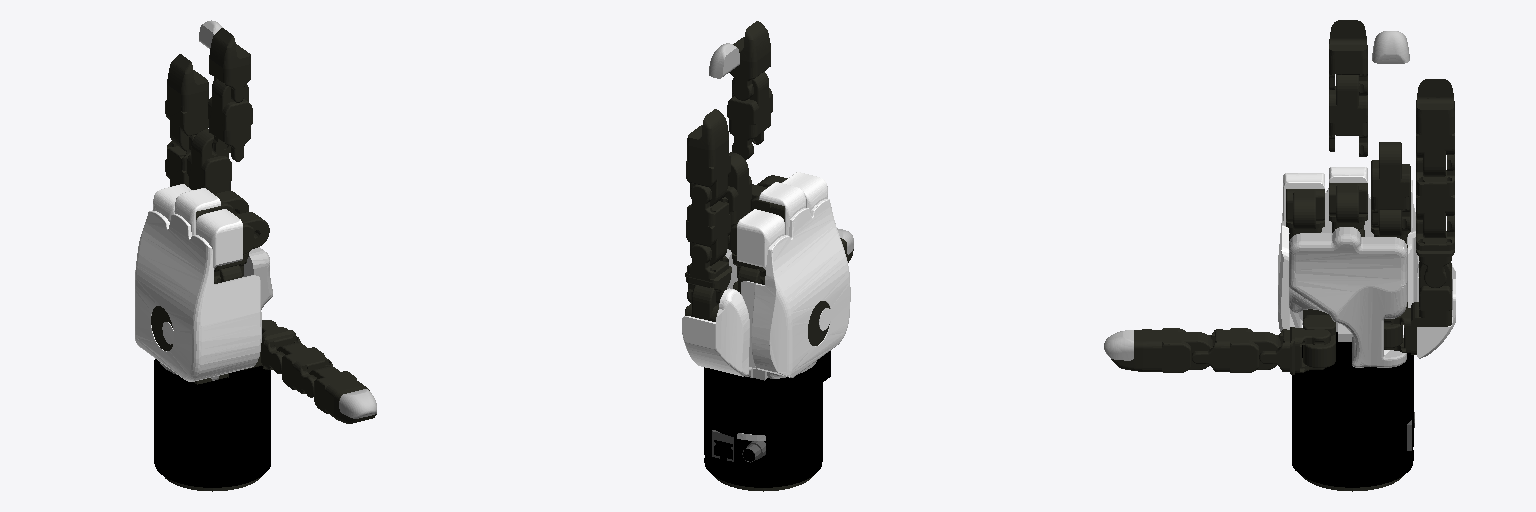
--- Render facts (derived) ---
Views: 3 orthographic renders of the robot side by side, from view 1: azimuth 30°, elevation 25°; view 2: azimuth 150°, elevation 25°; view 3: azimuth 270°, elevation 25°.
Model dg5f_left with 28 links and 27 joints (20 revolute, 7 fixed), rooted at ll_dg_mount, posed every joint at zero.
Visible links, largest first — view 1: ll_dg_palm, ll_dg_base, ll_dg_2_1, ll_dg_5_4, ll_dg_3_3, ll_dg_3_4, ll_dg_4_2, ll_dg_1_4, ll_dg_1_3, ll_dg_3_1, ll_dg_1_2, ll_dg_5_3 (+2 smaller); view 2: ll_dg_palm, ll_dg_base, ll_dg_5_1, ll_dg_5_4, ll_dg_4_1, ll_dg_3_3, ll_dg_5_3, ll_dg_3_4, ll_dg_5_2, ll_dg_3_1, ll_dg_4_2, ll_dg_2_1 (+1 smaller); view 3: ll_dg_palm, ll_dg_base, ll_dg_5_1, ll_dg_5_4, ll_dg_1_4, ll_dg_1_3, ll_dg_4_2, ll_dg_2_1, ll_dg_3_3, ll_dg_5_3, ll_dg_3_1, ll_dg_3_4 (+6 smaller).
Boxes of the visible links, left/top/right/bottom form: ll_dg_palm: left=135, top=210, right=272, bottom=381; ll_dg_base: left=154, top=359, right=270, bottom=487; ll_dg_2_1: left=196, top=209, right=269, bottom=283; ll_dg_5_4: left=165, top=54, right=208, bottom=151; ll_dg_3_3: left=208, top=79, right=252, bottom=161; ll_dg_3_4: left=209, top=28, right=250, bottom=102; ll_dg_4_2: left=187, top=129, right=231, bottom=193; ll_dg_1_4: left=309, top=366, right=376, bottom=423; ll_dg_1_3: left=277, top=342, right=332, bottom=397; ll_dg_3_1: left=174, top=188, right=248, bottom=234; ll_dg_1_2: left=261, top=320, right=300, bottom=373; ll_dg_5_3: left=165, top=135, right=195, bottom=186; ll_dg_palm: left=725, top=199, right=850, bottom=380; ll_dg_base: left=704, top=351, right=830, bottom=487; ll_dg_5_1: left=682, top=285, right=749, bottom=376; ll_dg_5_4: left=686, top=109, right=730, bottom=206; ll_dg_4_1: left=728, top=209, right=784, bottom=284; ll_dg_3_3: left=727, top=71, right=772, bottom=159; ll_dg_5_3: left=686, top=184, right=730, bottom=265; ll_dg_3_4: left=729, top=21, right=770, bottom=100; ll_dg_5_2: left=685, top=244, right=731, bottom=303; ll_dg_3_1: left=751, top=182, right=805, bottom=235; ll_dg_4_2: left=725, top=152, right=751, bottom=244; ll_dg_2_1: left=757, top=172, right=827, bottom=212; ll_dg_palm: left=1278, top=188, right=1418, bottom=367; ll_dg_base: left=1292, top=332, right=1414, bottom=487; ll_dg_5_1: left=1384, top=261, right=1455, bottom=358; ll_dg_5_4: left=1416, top=79, right=1454, bottom=176; ll_dg_1_4: left=1111, top=328, right=1213, bottom=372; ll_dg_1_3: left=1192, top=328, right=1281, bottom=372; ll_dg_4_2: left=1371, top=142, right=1410, bottom=230; ll_dg_2_1: left=1283, top=173, right=1324, bottom=235; ll_dg_3_3: left=1329, top=74, right=1367, bottom=156; ll_dg_5_3: left=1416, top=154, right=1454, bottom=237; ll_dg_3_1: left=1329, top=167, right=1367, bottom=229; ll_dg_3_4: left=1329, top=20, right=1367, bottom=95.
Bounding box of the posed robot: 0.0735 × 0.2022 × 0.2877 m (x, y, z).
19 mesh visuals loaded from 28 distinct referenced files (19 Collada DAE); not drawn: 9 (reference not matched to a file when rendering).

URDF robot description (dg5f_left):
<?xml version="1.0" ?>
<!--
    dg5f_left.urdf
    Licensed under the BSD-3-Clause
    Copyright (c) 2025 Tesollo Inc.
    See LICENSE file for details.

    Reference:
    * https://tesollo.com/dg-5f/
-->

<robot name="dg5f_left">
  <link name="ll_dg_mount">
    <inertial>
      <origin xyz="6.4721E-09 2.1674E-05 0.0049997" rpy="0.0 0.0 0.0" />
      <inertia ixx="1.0999E-05" ixy="-2.1734E-12" ixz="-1.2441E-12" iyy="1.1018E-05" iyz="-4.0435E-09" izz="2.0531E-05" />
      <mass value="0.05" />
    </inertial>
    <visual>
      <geometry>
        <mesh filename="package://dg_description/meshes/dg5f_left/visual/ll_dg_mount.dae"/>
      </geometry>
    </visual>
    <collision>
      <geometry>
        <mesh filename="package://dg_description/meshes/dg5f_left/collision/ll_dg_mount_c.STL"/>
      </geometry>
    </collision>
  </link>

  <link name="ll_dg_base">
    <inertial>
      <origin xyz="-0.00058969 -0.00051381 0.037363" rpy="0.0 0.0 0.0" />
      <inertia ixx="0.00048608" ixy="-1.041E-05" ixz="1.7229E-05" iyy="0.00049085" iyz="5.191E-06" izz="0.00043369" />
      <mass value="0.45" />
    </inertial>
    <visual>
      <origin xyz="0 0 0" rpy="0 0 0" />
      <geometry>
        <mesh filename="package://dg_description/meshes/dg5f_left/visual/ll_dg_base.dae" />
      </geometry>
    </visual>
    <collision>
      <origin xyz="0 0 0" rpy="0 0 0" />
      <geometry>
        <mesh filename="package://dg_description/meshes/dg5f_left/collision/ll_dg_base_c.STL" />
      </geometry>
    </collision>
  </link>
  <joint name="lj_dg_base" type="fixed">
    <parent link="ll_dg_mount"/>
    <child link="ll_dg_base"/>
    <origin rpy="0 0 0" xyz="0 0 0.004"/>
  </joint>

  <link name="ll_dg_palm">
    <inertial>
      <origin xyz="-0.0089544 -0.00095674 0.041327" rpy="0.0 0.0 0.0" />
      <inertia ixx="0.00052648" ixy="-2.618E-06" ixz="-2.2256E-05" iyy="0.00041644" iyz="4.8923E-05" izz="0.00045776" />
      <mass value="0.35" />
    </inertial>
    <visual>
      <origin xyz="0 0 0" rpy="0 0 0" />
      <geometry>
        <mesh filename="package://dg_description/meshes/dg5f_left/visual/ll_dg_palm.dae" />
      </geometry>
    </visual>
    <collision>
      <origin xyz="0 0 0" rpy="0 0 0" />
      <geometry>
        <mesh filename="package://dg_description/meshes/dg5f_left/collision/ll_dg_palm_c.STL" />
      </geometry>
    </collision>
  </link>
  <joint name="lj_dg_palm" type="fixed">
    <parent link="ll_dg_base"/>
    <child link="ll_dg_palm"/>
    <origin rpy="0 0 0" xyz="0 0 0.0698"/>
  </joint>

  <link name="ll_dg_1_1">
    <inertial>
      <origin xyz="0.021473 3.1163E-06 0.0028146" rpy="0.0 0.0 0.0" />
      <inertia ixx="4.2707E-06" ixy="2.4123E-09" ixz="2.9055E-06" iyy="1.3718E-05" iyz="-1.3824E-09" izz="1.2161E-05" />
      <mass value="0.045" />
    </inertial>
    <visual>
      <origin xyz="0 0 0" rpy="0 0 0" />
      <geometry>
        <mesh filename="package://dg_description/meshes/dg5f_left/visual/ll_dg_1_1.dae" />
      </geometry>
    </visual>
    <collision>
      <origin xyz="0 0 0" rpy="0 0 0" />
      <geometry>
        <mesh filename="package://dg_description/meshes/dg5f_left/collision/ll_dg_1_1_c.STL" />
      </geometry>
    </collision>
  </link>
  <joint name="lj_dg_1_1" type="revolute">
    <origin xyz="-0.0162 -0.019 0.0128" rpy="0.0 0.0 0.0" />
    <parent link="ll_dg_palm" />
    <child link="ll_dg_1_1" />
    <axis xyz="1 0 0" />
    <limit lower="-0.8901179185171081" upper="0.3839724354387525" effort="7.5" velocity="3.141592653589793"/>
  </joint>

  <link name="ll_dg_1_2">
    <inertial>
      <origin xyz="-0.00055633 -0.0155 0.00055633" rpy="0.0 0.0 0.0" />
      <inertia ixx="1.9935E-06" ixy="-1.5774E-07" ixz="-3.114E-09" iyy="1.459E-06" iyz="-1.5774E-07" izz="1.9935E-06" />
      <mass value="0.025" />
    </inertial>
    <visual>
      <origin xyz="0 0 0" rpy="0 0 0" />
      <geometry>
        <mesh filename="package://dg_description/meshes/dg5f_left/visual/ll_dg_1_2.dae" />
      </geometry>
    </visual>
    <collision>
      <origin xyz="0 0 0" rpy="0 0 0" />
      <geometry>
        <mesh filename="package://dg_description/meshes/dg5f_left/collision/ll_dg_1_2_c.STL" />
      </geometry>
    </collision>
  </link>
  <joint name="lj_dg_1_2" type="revolute">
    <origin xyz="0.04195 0.0 0.0" rpy="0.0 0.0 0.0" />
    <parent link="ll_dg_1_1" />
    <child link="ll_dg_1_2" />
    <axis xyz="0 0 1" />
    <limit lower="-0.0" upper="3.141592653589793" effort="7.5" velocity="3.141592653589793"/>
  </joint>

  <link name="ll_dg_1_3">
    <inertial>
      <origin xyz="-2.3008E-05 -0.014842 4.7446E-06" rpy="0.0 0.0 0.0" />
      <inertia ixx="5.9794E-06" ixy="-3.6014E-07" ixz="1.3678E-09" iyy="2.458E-06" iyz="2.3552E-09" izz="6.4181E-06" />
      <mass value="0.045" />
    </inertial>
    <visual>
      <origin xyz="0 0 0" rpy="0 0 0" />
      <geometry>
        <mesh filename="package://dg_description/meshes/dg5f_left/visual/ll_dg_1_3.dae" />
      </geometry>
    </visual>
    <collision>
      <origin xyz="0 0 0" rpy="0 0 0" />
      <geometry>
        <mesh filename="package://dg_description/meshes/dg5f_left/collision/ll_dg_1_3_c.STL" />
      </geometry>
    </collision>
  </link>
  <joint name="lj_dg_1_3" type="revolute">
    <origin xyz="0.0 -0.031 0.0" rpy="0.0 0.0 0.0" />
    <parent link="ll_dg_1_2" />
    <child link="ll_dg_1_3" />
    <axis xyz="1 0 0" />
    <limit lower="-1.5707963267948966" upper="1.5707963267948966" effort="7.5" velocity="3.141592653589793"/>
  </joint>

  <link name="ll_dg_1_4">
    <inertial>
      <origin xyz="0.00020482 -0.018795 -0.00036539" rpy="0.0 0.0 0.0" />
      <inertia ixx="9.4915E-06" ixy="-1.5157E-07" ixz="-3.4626E-09" iyy="2.9391E-06" iyz="-3.7813E-07" izz="9.8194E-06" />
      <mass value="0.045" />
    </inertial>
    <visual>
      <origin xyz="0 0 0" rpy="0 0 0" />
      <geometry>
        <mesh filename="package://dg_description/meshes/dg5f_left/visual/ll_dg_1_4.dae" />
      </geometry>
    </visual>
    <collision>
      <origin xyz="0 0 0" rpy="0 0 0" />
      <geometry>
        <mesh filename="package://dg_description/meshes/dg5f_left/collision/ll_dg_1_4_c.STL" />
      </geometry>
    </collision>
  </link>
  <joint name="lj_dg_1_4" type="revolute">
    <origin xyz="0.0 -0.0388 0.0" rpy="0.0 0.0 0.0" />
    <parent link="ll_dg_1_3" />
    <child link="ll_dg_1_4" />
    <axis xyz="1 0 0" />
    <limit lower="-1.5707963267948966" upper="1.5707963267948966" effort="7.5" velocity="3.141592653589793"/>
  </joint>

  <link name="ll_dg_1_tip">
    <inertial>
      <origin xyz="-5.479E-07 -0.007157 0.0038063" rpy="0.0 0.0 0.0" />
      <inertia ixx="1.9895E-07" ixy="-3.0731E-11" ixz="-2.1191E-12" iyy="2.5698E-07" iyz="-1.3375E-08" izz="3.2445E-07" />
      <mass value="0.005" />
    </inertial>
    <visual>
      <origin xyz="0 0 0" rpy="0 0 0" />
      <geometry>
        <mesh filename="package://dg_description/meshes/dg5f_left/visual/ll_dg_1_tip.dae" />
      </geometry>
    </visual>
    <collision>
      <origin xyz="0 0 0" rpy="0 0 0" />
      <geometry>
        <mesh filename="package://dg_description/meshes/dg5f_left/collision/ll_dg_1_tip_c.STL" />
      </geometry>
    </collision>
  </link>
  <joint name="lj_dg_1_tip" type="fixed">
    <origin xyz="0.0 -0.0363 0.0" rpy="0.0 0.0 0.0" />
    <parent link="ll_dg_1_4" />
    <child link="ll_dg_1_tip" />
  </joint>

  <link name="ll_dg_2_1">
    <inertial>
      <origin xyz="0.0010606 -0.00058566 0.023499" rpy="0.0 0.0 0.0" />
      <inertia ixx="6.5541E-06" ixy="1.8684E-07" ixz="-1.1508E-06" iyy="9.5306E-06" iyz="-5.3298E-09" izz="7.0879E-06" />
      <mass value="0.045" />
    </inertial>
    <visual>
      <origin xyz="0 0 0" rpy="0 0 0" />
      <geometry>
        <mesh filename="package://dg_description/meshes/dg5f_left/visual/ll_dg_2_1.dae" />
      </geometry>
    </visual>
    <collision>
      <origin xyz="0 0 0" rpy="0 0 0" />
      <geometry>
        <mesh filename="package://dg_description/meshes/dg5f_left/collision/ll_dg_2_1_c.STL" />
      </geometry>
    </collision>
  </link>
  <joint name="lj_dg_2_1" type="revolute">
    <origin xyz="-0.0071 -0.027 0.0661" rpy="0.0 0.0 0.0" />
    <parent link="ll_dg_palm" />
    <child link="ll_dg_2_1" />
    <axis xyz="1 0 0" />
    <limit lower="-0.6108652381980153" upper="0.4188790204786391" effort="7.5" velocity="3.141592653589793"/>
  </joint>

  <link name="ll_dg_2_2">
    <inertial>
      <origin xyz="-4.7446E-06 2.3008E-05 0.023958" rpy="0.0 0.0 0.0" />
      <inertia ixx="6.4181E-06" ixy="1.3678E-09" ixz="-2.3552E-09" iyy="5.9794E-06" iyz="3.6014E-07" izz="2.458E-06" />
      <mass value="0.045" />
    </inertial>
    <visual>
      <origin xyz="0 0 0" rpy="0 0 0" />
      <geometry>
        <mesh filename="package://dg_description/meshes/dg5f_left/visual/ll_dg_2_2.dae" />
      </geometry>
    </visual>
    <collision>
      <origin xyz="0 0 0" rpy="0 0 0" />
      <geometry>
        <mesh filename="package://dg_description/meshes/dg5f_left/collision/ll_dg_2_2_c.STL" />
      </geometry>
    </collision>
  </link>
  <joint name="lj_dg_2_2" type="revolute">
    <origin xyz="0.01765 0.0 0.0265" rpy="0.0 0.0 0.0" />
    <parent link="ll_dg_2_1" />
    <child link="ll_dg_2_2" />
    <axis xyz="0 1 0" />
    <limit lower="-0.0" upper="2.007128639793479" effort="7.5" velocity="3.141592653589793"/>
  </joint>

  <link name="ll_dg_2_3">
    <inertial>
      <origin xyz="-4.7446E-06 2.3008E-05 0.023958" rpy="0.0 0.0 0.0" />
      <inertia ixx="6.4181E-06" ixy="1.3678E-09" ixz="-2.3552E-09" iyy="5.9794E-06" iyz="3.6014E-07" izz="2.458E-06" />
      <mass value="0.045" />
    </inertial>
    <visual>
      <origin xyz="0 0 0" rpy="0 0 0" />
      <geometry>
        <mesh filename="package://dg_description/meshes/dg5f_left/visual/ll_dg_2_3.dae" />
      </geometry>
    </visual>
    <collision>
      <origin xyz="0 0 0" rpy="0 0 0" />
      <geometry>
        <mesh filename="package://dg_description/meshes/dg5f_left/collision/ll_dg_2_3_c.STL" />
      </geometry>
    </collision>
  </link>
  <joint name="lj_dg_2_3" type="revolute">
    <origin xyz="0.0 0.0 0.0388" rpy="0.0 0.0 0.0" />
    <parent link="ll_dg_2_2" />
    <child link="ll_dg_2_3" />
    <axis xyz="0 1 0" />
    <limit lower="-1.5707963267948966" upper="1.5707963267948966" effort="7.5" velocity="3.141592653589793"/>
  </joint>

  <link name="ll_dg_2_4">
    <inertial>
      <origin xyz="-0.00070816 0.00043036 0.017842" rpy="0.0 0.0 0.0" />
      <inertia ixx="2.8592E-06" ixy="-5.9306E-09" ixz="2.1028E-07" iyy="2.3907E-06" iyz="1.8286E-07" izz="1.6592E-06" />
      <mass value="0.025" />
    </inertial>
    <visual>
      <origin xyz="0 0 0" rpy="0 0 0" />
      <geometry>
        <mesh filename="package://dg_description/meshes/dg5f_left/visual/ll_dg_2_4.dae" />
      </geometry>
    </visual>
    <collision>
      <origin xyz="0 0 0" rpy="0 0 0" />
      <geometry>
        <mesh filename="package://dg_description/meshes/dg5f_left/collision/ll_dg_2_4_c.STL" />
      </geometry>
    </collision>
  </link>
  <joint name="lj_dg_2_4" type="revolute">
    <origin xyz="0.0 0.0 0.0388" rpy="0.0 0.0 0.0" />
    <parent link="ll_dg_2_3" />
    <child link="ll_dg_2_4" />
    <axis xyz="0 1 0" />
    <limit lower="-1.5707963267948966" upper="1.5707963267948966" effort="7.5" velocity="3.141592653589793"/>
  </joint>

  <link name="ll_dg_2_tip">
    <inertial>
      <origin xyz="0.0038063 5.479E-07 0.007157" rpy="0.0 0.0 0.0" />
      <inertia ixx="3.2445E-07" ixy="2.1191E-12" ixz="1.3375E-08" iyy="1.9895E-07" iyz="-3.0731E-11" izz="2.5698E-07" />
      <mass value="0.005" />
    </inertial>
    <visual>
      <origin xyz="0 0 0" rpy="0 0 0" />
      <geometry>
        <mesh filename="package://dg_description/meshes/dg5f_left/visual/ll_dg_2_tip.dae" />
      </geometry>
    </visual>
    <collision>
      <origin xyz="0 0 0" rpy="0 0 0" />
      <geometry>
        <mesh filename="package://dg_description/meshes/dg5f_left/collision/ll_dg_2_tip_c.STL" />
      </geometry>
    </collision>
  </link>
  <joint name="lj_dg_2_tip" type="fixed">
    <origin xyz="0.0 0.0 0.0255" rpy="0.0 0.0 0.0" />
    <parent link="ll_dg_2_4" />
    <child link="ll_dg_2_tip" />
  </joint>

  <link name="ll_dg_3_1">
    <inertial>
      <origin xyz="0.0012558 -0.00017703 0.023374" rpy="0.0 0.0 0.0" />
      <inertia ixx="6.233E-06" ixy="1.1315E-07" ixz="-1.1589E-06" iyy="9.3331E-06" iyz="3.5383E-08" izz="6.7817E-06" />
      <mass value="0.045" />
    </inertial>
    <visual>
      <origin xyz="0 0 0" rpy="0 0 0" />
      <geometry>
        <mesh filename="package://dg_description/meshes/dg5f_left/visual/ll_dg_3_1.dae" />
      </geometry>
    </visual>
    <collision>
      <origin xyz="0 0 0" rpy="0 0 0" />
      <geometry>
        <mesh filename="package://dg_description/meshes/dg5f_left/collision/ll_dg_3_1_c.STL" />
      </geometry>
    </collision>
  </link>
  <joint name="lj_dg_3_1" type="revolute">
    <origin xyz="-0.0071 -0.0025 0.0701" rpy="0.0 0.0 0.0" />
    <parent link="ll_dg_palm" />
    <child link="ll_dg_3_1" />
    <axis xyz="1 0 0" />
    <limit lower="-0.6108652381980153" upper="0.6108652381980153" effort="7.5" velocity="3.141592653589793"/>
  </joint>

  <link name="ll_dg_3_2">
    <inertial>
      <origin xyz="-4.7446E-06 2.3008E-05 0.023958" rpy="0.0 0.0 0.0" />
      <inertia ixx="6.4181E-06" ixy="1.3678E-09" ixz="-2.3552E-09" iyy="5.9794E-06" iyz="3.6014E-07" izz="2.458E-06" />
      <mass value="0.045" />
    </inertial>
    <visual>
      <origin xyz="0 0 0" rpy="0 0 0" />
      <geometry>
        <mesh filename="package://dg_description/meshes/dg5f_left/visual/ll_dg_3_2.dae" />
      </geometry>
    </visual>
    <collision>
      <origin xyz="0 0 0" rpy="0 0 0" />
      <geometry>
        <mesh filename="package://dg_description/meshes/dg5f_left/collision/ll_dg_3_2_c.STL" />
      </geometry>
    </collision>
  </link>
  <joint name="lj_dg_3_2" type="revolute">
    <origin xyz="0.01765 0.0 0.0265" rpy="0.0 0.0 0.0" />
    <parent link="ll_dg_3_1" />
    <child link="ll_dg_3_2" />
    <axis xyz="0 1 0" />
    <limit lower="0.0" upper="1.9547687622336491" effort="7.5" velocity="3.141592653589793"/>
  </joint>

  <link name="ll_dg_3_3">
    <inertial>
      <origin xyz="-4.7446E-06 2.3008E-05 0.023958" rpy="0.0 0.0 0.0" />
      <inertia ixx="6.4181E-06" ixy="1.3678E-09" ixz="-2.3552E-09" iyy="5.9794E-06" iyz="3.6014E-07" izz="2.458E-06" />
      <mass value="0.045" />
    </inertial>
    <visual>
      <origin xyz="0 0 0" rpy="0 0 0" />
      <geometry>
        <mesh filename="package://dg_description/meshes/dg5f_left/visual/ll_dg_3_3.dae" />
      </geometry>
    </visual>
    <collision>
      <origin xyz="0 0 0" rpy="0 0 0" />
      <geometry>
        <mesh filename="package://dg_description/meshes/dg5f_left/collision/ll_dg_3_3_c.STL" />
      </geometry>
    </collision>
  </link>
  <joint name="lj_dg_3_3" type="revolute">
    <origin xyz="0.0 0.0 0.0388" rpy="0.0 0.0 0.0" />
    <parent link="ll_dg_3_2" />
    <child link="ll_dg_3_3" />
    <axis xyz="0 1 0" />
    <limit lower="-1.5707963267948966" upper="1.5707963267948966" effort="7.5" velocity="3.141592653589793"/>
  </joint>

  <link name="ll_dg_3_4">
    <inertial>
      <origin xyz="-0.00070816 0.00043036 0.017842" rpy="0.0 0.0 0.0" />
      <inertia ixx="2.8592E-06" ixy="-5.9306E-09" ixz="2.1028E-07" iyy="2.3907E-06" iyz="1.8286E-07" izz="1.6592E-06" />
      <mass value="0.025" />
    </inertial>
    <visual>
      <origin xyz="0 0 0" rpy="0 0 0" />
      <geometry>
        <mesh filename="package://dg_description/meshes/dg5f_left/visual/ll_dg_3_4.dae" />
      </geometry>
    </visual>
    <collision>
      <origin xyz="0 0 0" rpy="0 0 0" />
      <geometry>
        <mesh filename="package://dg_description/meshes/dg5f_left/collision/ll_dg_3_4_c.STL" />
      </geometry>
    </collision>
  </link>
  <joint name="lj_dg_3_4" type="revolute">
    <origin xyz="0.0 0.0 0.0388" rpy="0.0 0.0 0.0" />
    <parent link="ll_dg_3_3" />
    <child link="ll_dg_3_4" />
    <axis xyz="0 1 0" />
    <limit lower="-1.5707963267948966" upper="1.5707963267948966" effort="7.5" velocity="3.141592653589793"/>
  </joint>

  <link name="ll_dg_3_tip">
    <inertial>
      <origin xyz="0.0038063 5.479E-07 0.007157" rpy="0.0 0.0 0.0" />
      <inertia ixx="3.2445E-07" ixy="2.1191E-12" ixz="1.3375E-08" iyy="1.9895E-07" iyz="-3.0731E-11" izz="2.5698E-07" />
      <mass value="0.005" />
    </inertial>
    <visual>
      <origin xyz="0 0 0" rpy="0 0 0" />
      <geometry>
        <mesh filename="package://dg_description/meshes/dg5f_left/visual/ll_dg_3_tip.dae" />
      </geometry>
    </visual>
    <collision>
      <origin xyz="0 0 0" rpy="0 0 0" />
      <geometry>
        <mesh filename="package://dg_description/meshes/dg5f_left/collision/ll_dg_3_tip_c.STL" />
      </geometry>
    </collision>
  </link>
  <joint name="lj_dg_3_tip" type="fixed">
    <origin xyz="0.0 0.0 0.0255" rpy="0.0 0.0 0.0" />
    <parent link="ll_dg_3_4" />
    <child link="ll_dg_3_tip" />
  </joint>

  <link name="ll_dg_4_1">
    <inertial>
      <origin xyz="0.001061 0.00024417 0.023499" rpy="0.0 0.0 0.0" />
      <inertia ixx="6.5538E-06" ixy="3.9294E-08" ixz="-1.1507E-06" iyy="9.5305E-06" iyz="7.6072E-08" izz="7.0877E-06" />
      <mass value="0.045" />
    </inertial>
    <visual>
      <origin xyz="0 0 0" rpy="0 0 0" />
      <geometry>
        <mesh filename="package://dg_description/meshes/dg5f_left/visual/ll_dg_4_1.dae" />
      </geometry>
    </visual>
    <collision>
      <origin xyz="0 0 0" rpy="0 0 0" />
      <geometry>
        <mesh filename="package://dg_description/meshes/dg5f_left/collision/ll_dg_4_1_c.STL" />
      </geometry>
    </collision>
  </link>
  <joint name="lj_dg_4_1" type="revolute">
    <origin xyz="-0.0071 0.022 0.0621" rpy="0.0 0.0 0.0" />
    <parent link="ll_dg_palm" />
    <child link="ll_dg_4_1" />
    <axis xyz="1 0 0" />
    <limit lower="-0.4188790204786391" upper="0.6108652381980153" effort="7.5" velocity="3.141592653589793"/>
  </joint>

  <link name="ll_dg_4_2">
    <inertial>
      <origin xyz="-4.7446E-06 2.3008E-05 0.023958" rpy="0.0 0.0 0.0" />
      <inertia ixx="6.4181E-06" ixy="1.3678E-09" ixz="-2.3552E-09" iyy="5.9794E-06" iyz="3.6014E-07" izz="2.458E-06" />
      <mass value="0.045" />
    </inertial>
    <visual>
      <origin xyz="0 0 0" rpy="0 0 0" />
      <geometry>
        <mesh filename="package://dg_description/meshes/dg5f_left/visual/ll_dg_4_2.dae" />
      </geometry>
    </visual>
    <collision>
      <origin xyz="0 0 0" rpy="0 0 0" />
      <geometry>
        <mesh filename="package://dg_description/meshes/dg5f_left/collision/ll_dg_4_2_c.STL" />
      </geometry>
    </collision>
  </link>
  <joint name="lj_dg_4_2" type="revolute">
    <origin xyz="0.01765 0.0 0.0265" rpy="0.0 0.0 0.0" />
    <parent link="ll_dg_4_1" />
    <child link="ll_dg_4_2" />
    <axis xyz="0 1 0" />
    <limit lower="0.0" upper="1.9024088846738192" effort="7.5" velocity="3.141592653589793"/>
  </joint>

  <link name="ll_dg_4_3">
    <inertial>
      <origin xyz="-4.7446E-06 2.3008E-05 0.023958" rpy="0.0 0.0 0.0" />
      <inertia ixx="6.4181E-06" ixy="1.3678E-09" ixz="-2.3552E-09" iyy="5.9794E-06" iyz="3.6014E-07" izz="2.458E-06" />
      <mass value="0.045" />
    </inertial>
    <visual>
      <origin xyz="0 0 0" rpy="0 0 0" />
      <geometry>
        <mesh filename="package://dg_description/meshes/dg5f_left/visual/ll_dg_4_3.dae" />
      </geometry>
    </visual>
    <collision>
      <origin xyz="0 0 0" rpy="0 0 0" />
      <geometry>
        <mesh filename="package://dg_description/meshes/dg5f_left/collision/ll_dg_4_3_c.STL" />
      </geometry>
    </collision>
  </link>
  <joint name="lj_dg_4_3" type="revolute">
    <origin xyz="0.0 0.0 0.0388" rpy="0.0 0.0 0.0" />
    <parent link="ll_dg_4_2" />
    <child link="ll_dg_4_3" />
    <axis xyz="0 1 0" />
    <limit lower="-1.5707963267948966" upper="1.5707963267948966" effort="7.5" velocity="3.141592653589793"/>
  </joint>

  <link name="ll_dg_4_4">
    <inertial>
      <origin xyz="-0.00070816 0.00043036 0.017842" rpy="0.0 0.0 0.0" />
      <inertia ixx="2.8592E-06" ixy="-5.9306E-09" ixz="2.1028E-07" iyy="2.3907E-06" iyz="1.8286E-07" izz="1.6592E-06" />
      <mass value="0.025" />
    </inertial>
    <visual>
      <origin xyz="0 0 0" rpy="0 0 0" />
      <geometry>
        <mesh filename="package://dg_description/meshes/dg5f_left/visual/ll_dg_4_4.dae" />
      </geometry>
    </visual>
    <collision>
      <origin xyz="0 0 0" rpy="0 0 0" />
      <geometry>
        <mesh filename="package://dg_description/meshes/dg5f_left/collision/ll_dg_4_4_c.STL" />
      </geometry>
    </collision>
  </link>
  <joint name="lj_dg_4_4" type="revolute">
    <origin xyz="0.0 0.0 0.0388" rpy="0.0 0.0 0.0" />
    <parent link="ll_dg_4_3" />
    <child link="ll_dg_4_4" />
    <axis xyz="0 1 0" />
    <limit lower="-1.5707963267948966" upper="1.5707963267948966" effort="7.5" velocity="3.141592653589793"/>
  </joint>

  <link name="ll_dg_4_tip">
    <inertial>
      <origin xyz="0.0038063 5.479E-07 0.007157" rpy="0.0 0.0 0.0" />
      <inertia ixx="3.2445E-07" ixy="2.1191E-12" ixz="1.3375E-08" iyy="1.9895E-07" iyz="-3.0731E-11" izz="2.5698E-07" />
      <mass value="0.005" />
    </inertial>
    <visual>
      <origin xyz="0 0 0" rpy="0 0 0" />
      <geometry>
        <mesh filename="package://dg_description/meshes/dg5f_left/visual/ll_dg_4_tip.dae" />
      </geometry>
    </visual>
    <collision>
      <origin xyz="0 0 0" rpy="0 0 0" />
      <geometry>
        <mesh filename="package://dg_description/meshes/dg5f_left/collision/ll_dg_4_tip_c.STL" />
      </geometry>
    </collision>
  </link>
  <joint name="lj_dg_4_tip" type="fixed">
    <origin xyz="0.0 0.0 0.0255" rpy="0.0 0.0 0.0" />
    <parent link="ll_dg_4_4" />
    <child link="ll_dg_4_tip" />
  </joint>

  <link name="ll_dg_5_1">
    <inertial>
      <origin xyz="-0.0045287 0.025016 0.014025" rpy="0.0 0.0 0.0" />
      <inertia ixx="2.3621E-05" ixy="-2.0571E-07" ixz="2.5894E-06" iyy="2.3655E-05" iyz="-4.4786E-06" izz="1.1298E-05" />
      <mass value="0.055" />
    </inertial>
    <visual>
      <origin xyz="0 0 0" rpy="0 0 0" />
      <geometry>
        <mesh filename="package://dg_description/meshes/dg5f_left/visual/ll_dg_5_1.dae" />
      </geometry>
    </visual>
    <collision>
      <origin xyz="0 0 0" rpy="0 0 0" />
      <geometry>
        <mesh filename="package://dg_description/meshes/dg5f_left/collision/ll_dg_5_1_c.STL" />
      </geometry>
    </collision>
  </link>
  <joint name="lj_dg_5_1" type="revolute">
    <origin xyz="0.0103 0.0195 0.0182" rpy="0.0 0.0 0.0" />
    <parent link="ll_dg_palm" />
    <child link="ll_dg_5_1" />
    <axis xyz="0 0 1" />
    <limit lower="-1.0471975511965976" upper="0.017453292519943295" effort="7.5" velocity="3.141592653589793"/>
  </joint>

  <link name="ll_dg_5_2">
    <inertial>
      <origin xyz="0.00055633 0.00055633 0.0155" rpy="0.0 0.0 0.0" />
      <inertia ixx="1.9935E-06" ixy="3.114E-09" ixz="1.5774E-07" iyy="1.9935E-06" iyz="-1.5774E-07" izz="1.459E-06" />
      <mass value="0.025" />
    </inertial>
    <visual>
      <origin xyz="0 0 0" rpy="0 0 0" />
      <geometry>
        <mesh filename="package://dg_description/meshes/dg5f_left/visual/ll_dg_5_2.dae" />
      </geometry>
    </visual>
    <collision>
      <origin xyz="0 0 0" rpy="0 0 0" />
      <geometry>
        <mesh filename="package://dg_description/meshes/dg5f_left/collision/ll_dg_5_2_c.STL" />
      </geometry>
    </collision>
  </link>
  <joint name="lj_dg_5_2" type="revolute">
    <origin xyz="0.0 0.028 0.0381" rpy="0.0 0.0 0.0" />
    <parent link="ll_dg_5_1" />
    <child link="ll_dg_5_2" />
    <axis xyz="1 0 0" />
    <limit lower="-0.6108652381980153" upper="0.4188790204786391" effort="7.5" velocity="3.141592653589793"/>
  </joint>

  <link name="ll_dg_5_3">
    <inertial>
      <origin xyz="4.7446E-06 2.3008E-05 0.014842" rpy="0.0 0.0 0.0" />
      <inertia ixx="6.4181E-06" ixy="-1.3678E-09" ixz="-2.3552E-09" iyy="5.9794E-06" iyz="-3.6014E-07" izz="2.458E-06" />
      <mass value="0.045" />
    </inertial>
    <visual>
      <origin xyz="0 0 0" rpy="0 0 0" />
      <geometry>
        <mesh filename="package://dg_description/meshes/dg5f_left/visual/ll_dg_5_3.dae" />
      </geometry>
    </visual>
    <collision>
      <origin xyz="0 0 0" rpy="0 0 0" />
      <geometry>
        <mesh filename="package://dg_description/meshes/dg5f_left/collision/ll_dg_5_3_c.STL" />
      </geometry>
    </collision>
  </link>
  <joint name="lj_dg_5_3" type="revolute">
    <origin xyz="0.0 0.0 0.031" rpy="0.0 0.0 0.0" />
    <parent link="ll_dg_5_2" />
    <child link="ll_dg_5_3" />
    <axis xyz="0 1 0" />
    <limit lower="-1.5707963267948966" upper="1.5707963267948966" effort="7.5" velocity="3.141592653589793"/>
  </joint>

  <link name="ll_dg_5_4">
    <inertial>
      <origin xyz="-0.00036539 -0.00020482 0.018795" rpy="0.0 0.0 0.0" />
      <inertia ixx="9.8194E-06" ixy="3.4626E-09" ixz="3.7813E-07" iyy="9.4915E-06" iyz="-1.5157E-07" izz="2.9391E-06" />
      <mass value="0.045" />
    </inertial>
    <visual>
      <origin xyz="0 0 0" rpy="0 0 0" />
      <geometry>
        <mesh filename="package://dg_description/meshes/dg5f_left/visual/ll_dg_5_4.dae" />
      </geometry>
    </visual>
    <collision>
      <origin xyz="0 0 0" rpy="0 0 0" />
      <geometry>
        <mesh filename="package://dg_description/meshes/dg5f_left/collision/ll_dg_5_4_c.STL" />
      </geometry>
    </collision>
  </link>
  <joint name="lj_dg_5_4" type="revolute">
    <origin xyz="0.0 0.0 0.0388" rpy="0.0 0.0 0.0" />
    <parent link="ll_dg_5_3" />
    <child link="ll_dg_5_4" />
    <axis xyz="0 1 0" />
    <limit lower="-1.5707963267948966" upper="1.5707963267948966" effort="7.5" velocity="3.141592653589793"/>
  </joint>

  <link name="ll_dg_5_tip">
    <inertial>
      <origin xyz="0.0038063 5.479E-07 0.007157" rpy="0.0 0.0 0.0" />
      <inertia ixx="3.2445E-07" ixy="2.1191E-12" ixz="1.3375E-08" iyy="1.9895E-07" iyz="-3.0731E-11" izz="2.5698E-07" />
      <mass value="0.005" />
    </inertial>
    <visual>
      <origin xyz="0 0 0" rpy="0 0 0" />
      <geometry>
        <mesh filename="package://dg_description/meshes/dg5f_left/visual/ll_dg_5_tip.dae" />
      </geometry>
    </visual>
    <collision>
      <origin xyz="0 0 0" rpy="0 0 0" />
      <geometry>
        <mesh filename="package://dg_description/meshes/dg5f_left/collision/ll_dg_5_tip_c.STL" />
      </geometry>
    </collision>
  </link>
  <joint name="lj_dg_5_tip" type="fixed">
    <origin xyz="0.0 0.0 0.0363" rpy="0.0 0.0 0.0" />
    <parent link="ll_dg_5_4" />
    <child link="ll_dg_5_tip" />
  </joint>
</robot>
